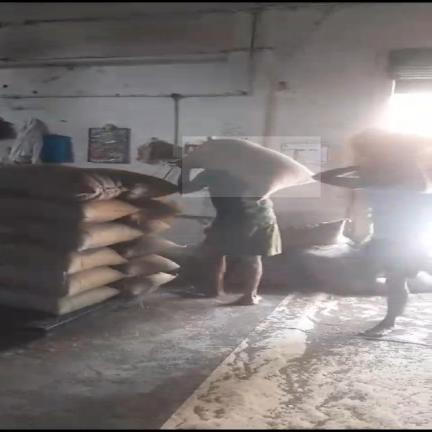Zone-Counting: (176, 137, 313, 305)
